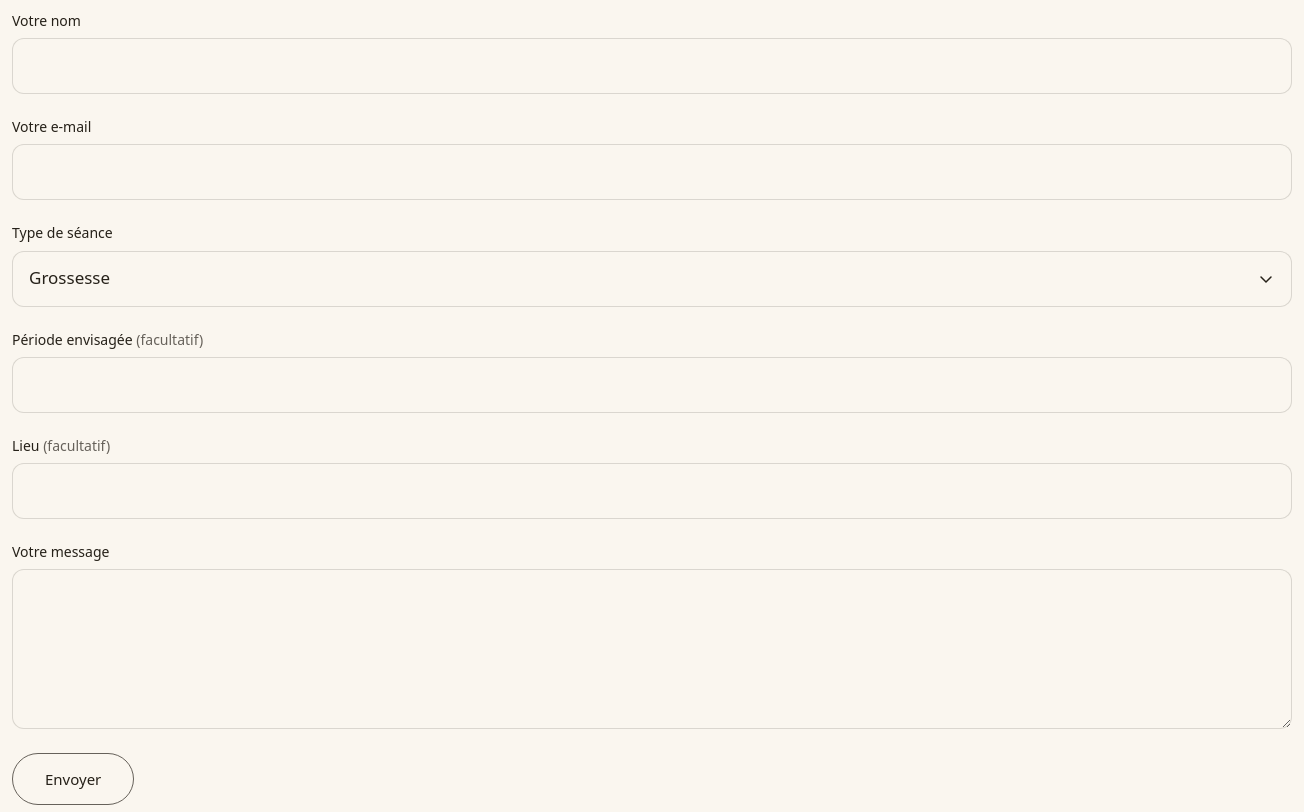
Scenario: inquiry-form — interaction contract › failed submit shows server errors, keeps values, focuses first invalid
In the field labelled "Votre nom": (652, 66) [12,38,1292,94], type "Camille"
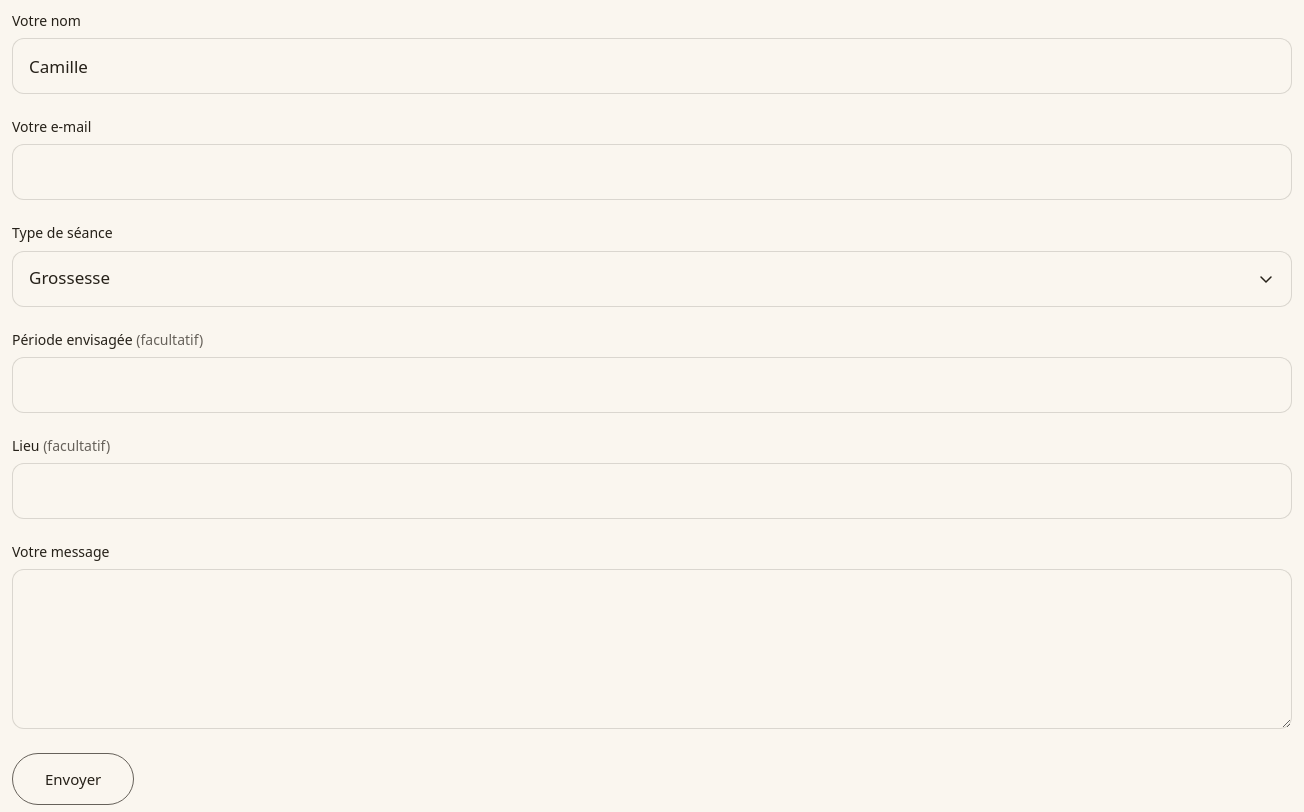
In the field labelled "Votre e-mail": (652, 172) [12,144,1292,200], type "cassé"
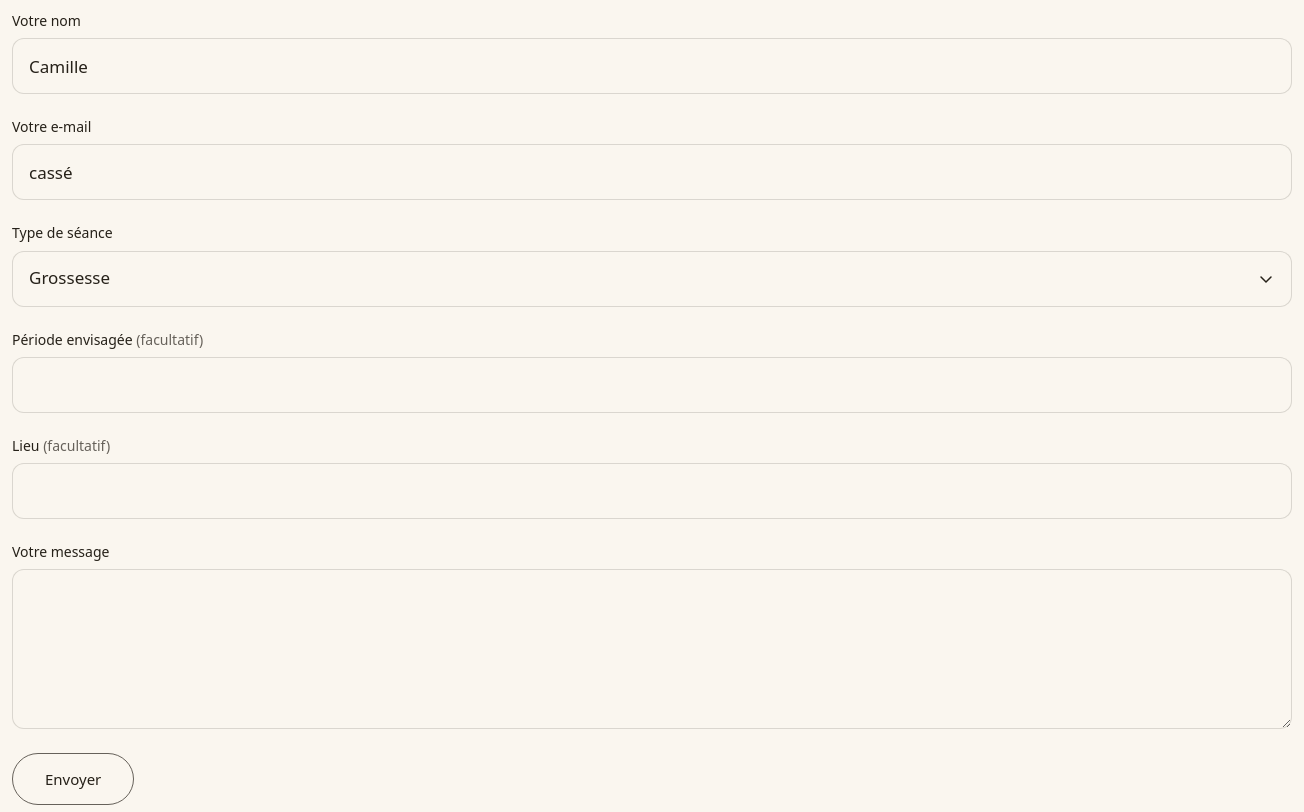
Submit the form
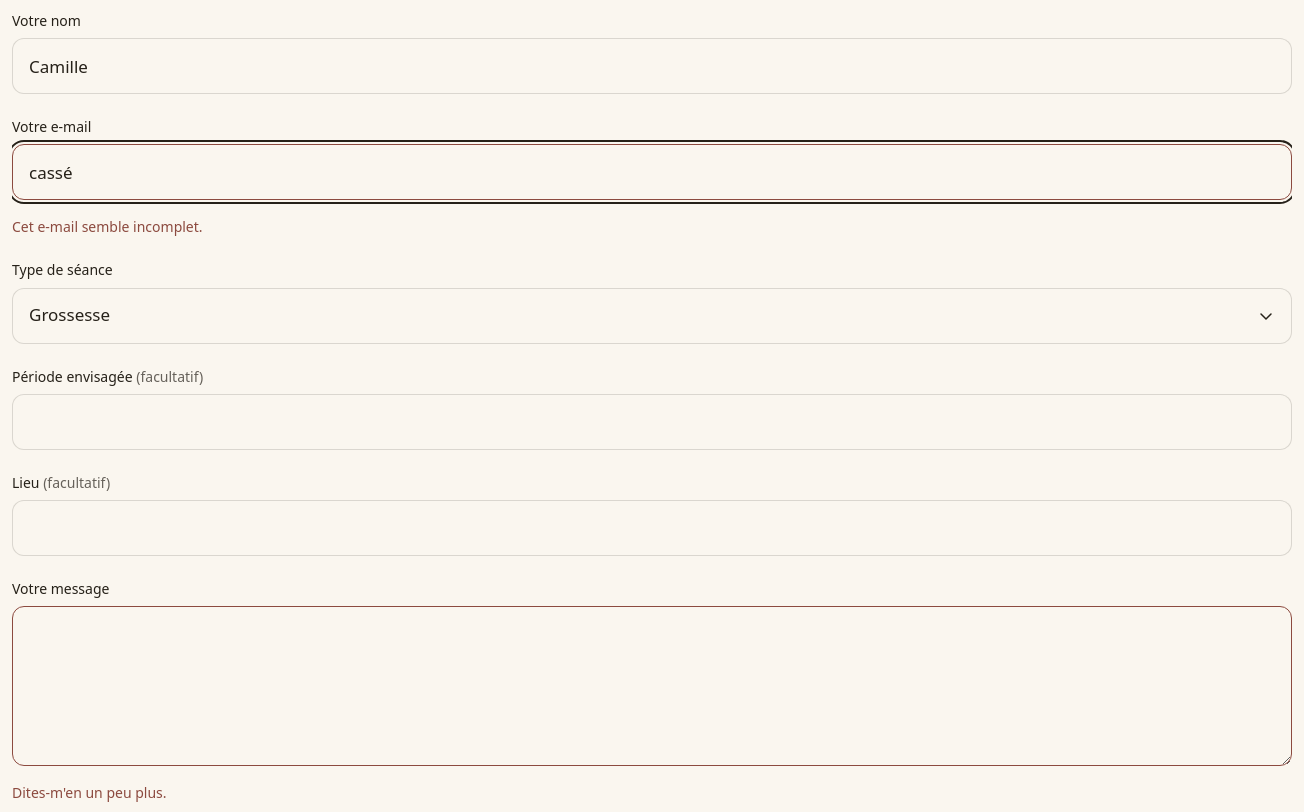
Result: the text "Cet e-mail semble incomplet." is shown at [12,217,203,236]
